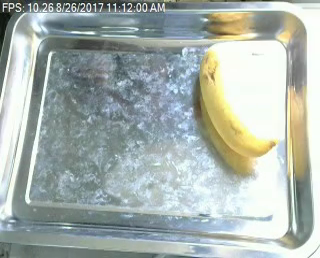Mango: (194, 46, 287, 159)
